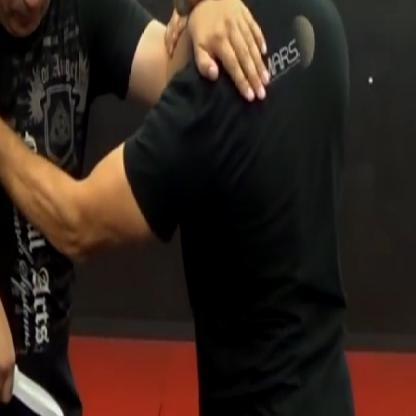knife: (0, 323, 70, 415)
